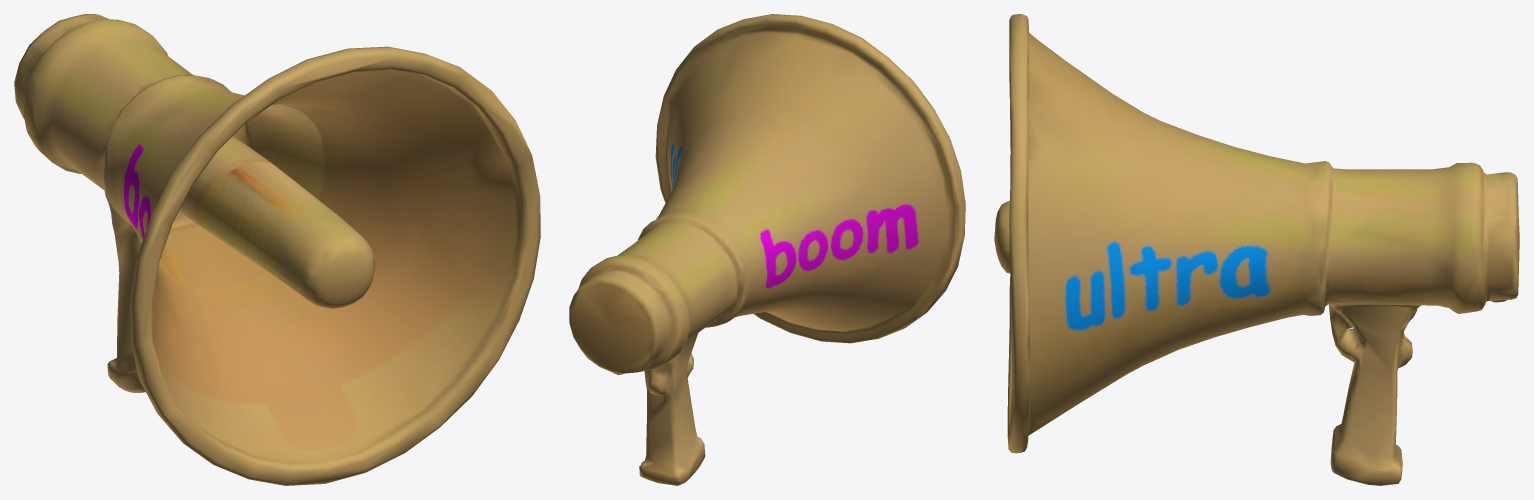
The model's file is megaphone.glb.
3 renders of one model, left to right at view 1: azimuth 30°, elevation 25°; view 2: azimuth 150°, elevation 25°; view 3: azimuth 270°, elevation 25°, orthographic. The views are drawn at different scales.
Visible parts, largest first — view 1: Mesh_0; view 2: Mesh_0; view 3: Mesh_0.
Boxes of the visible parts, bbox=[...] form: Mesh_0: bbox=[14, 14, 540, 485]; Mesh_0: bbox=[569, 14, 965, 485]; Mesh_0: bbox=[994, 14, 1519, 485].
Bounding box in the file's own units: 0.3791 × 0.4179 × 0.4502.
Materials: 1 (1 with a texture image).
